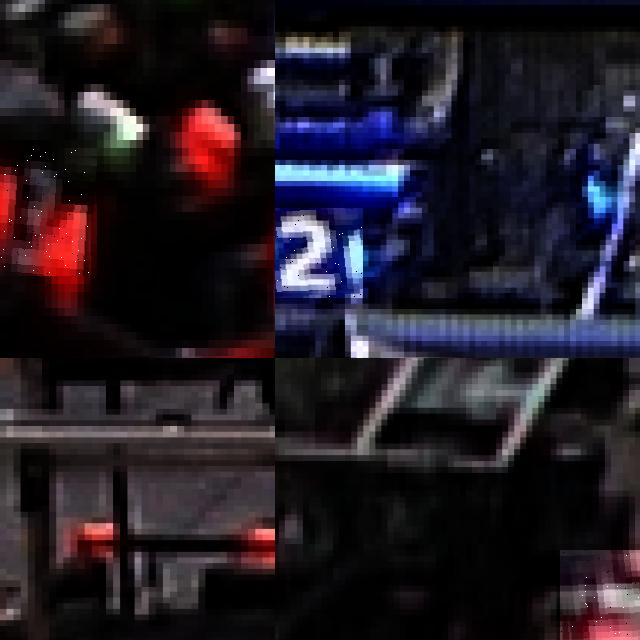B2: (275, 207, 362, 298)
R1: (559, 550, 640, 640)
R3: (0, 148, 97, 276)
